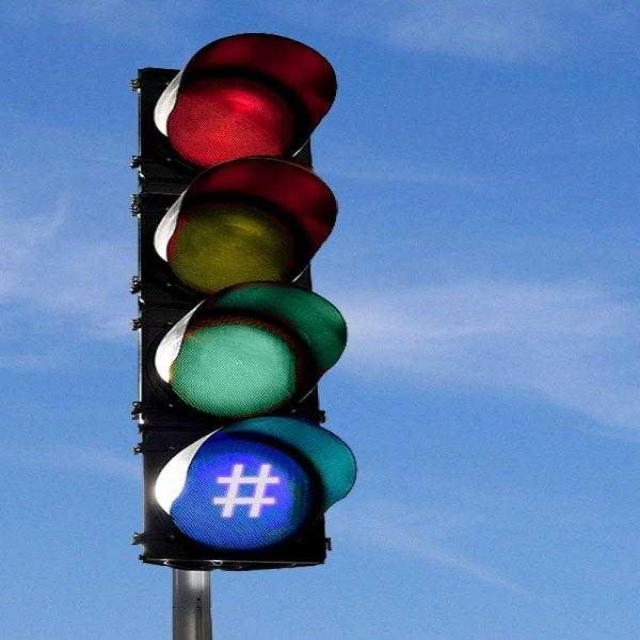Traffic Light -Off-: (131, 23, 348, 582)
